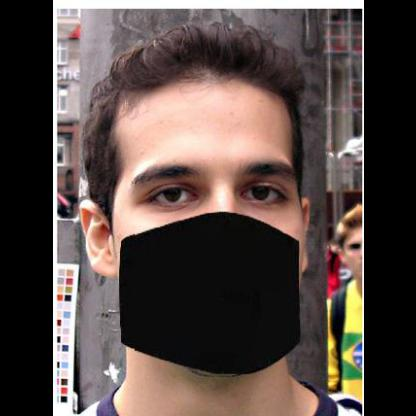Fabric/Cloth Mask: (79, 49, 319, 367)
